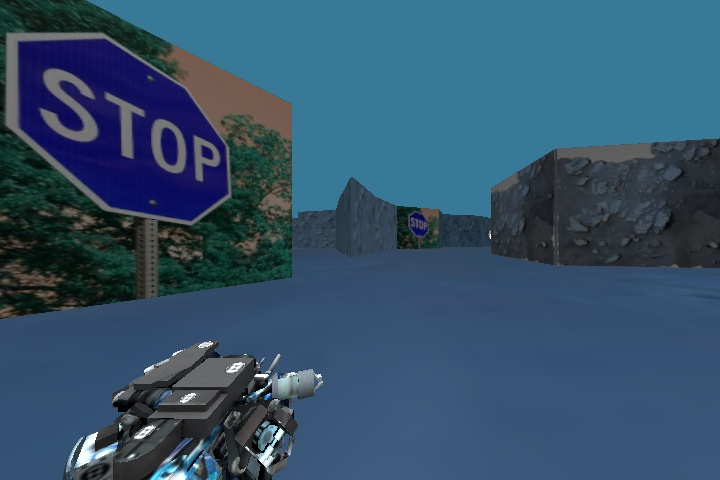stop_sign: (1, 2, 232, 239), (402, 208, 432, 241)
